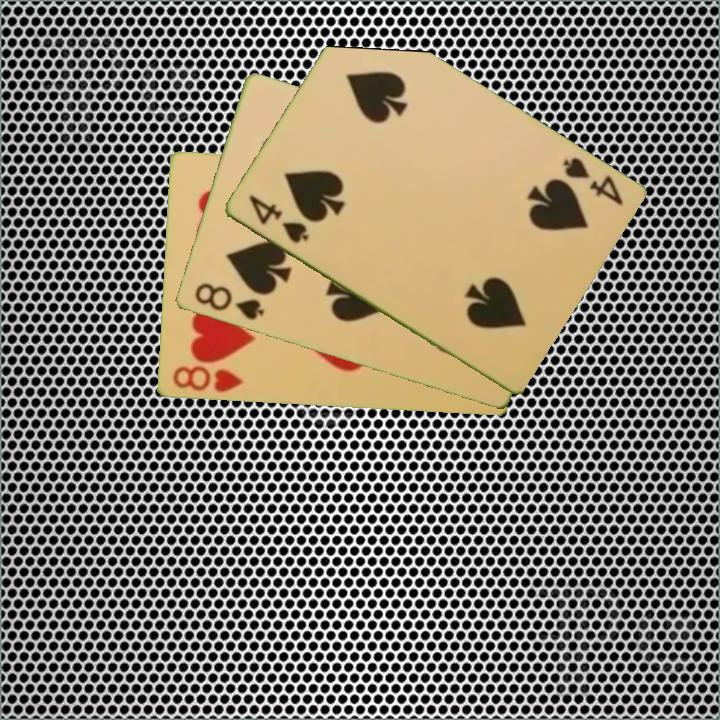4s: (244, 191, 311, 247), (558, 154, 626, 209)
8h: (169, 362, 246, 396)
8s: (191, 279, 267, 323)
